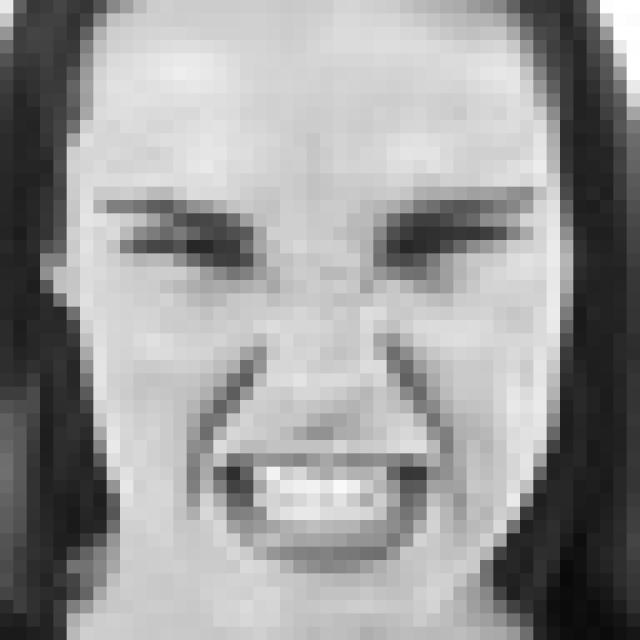angry: (97, 175, 548, 586)
